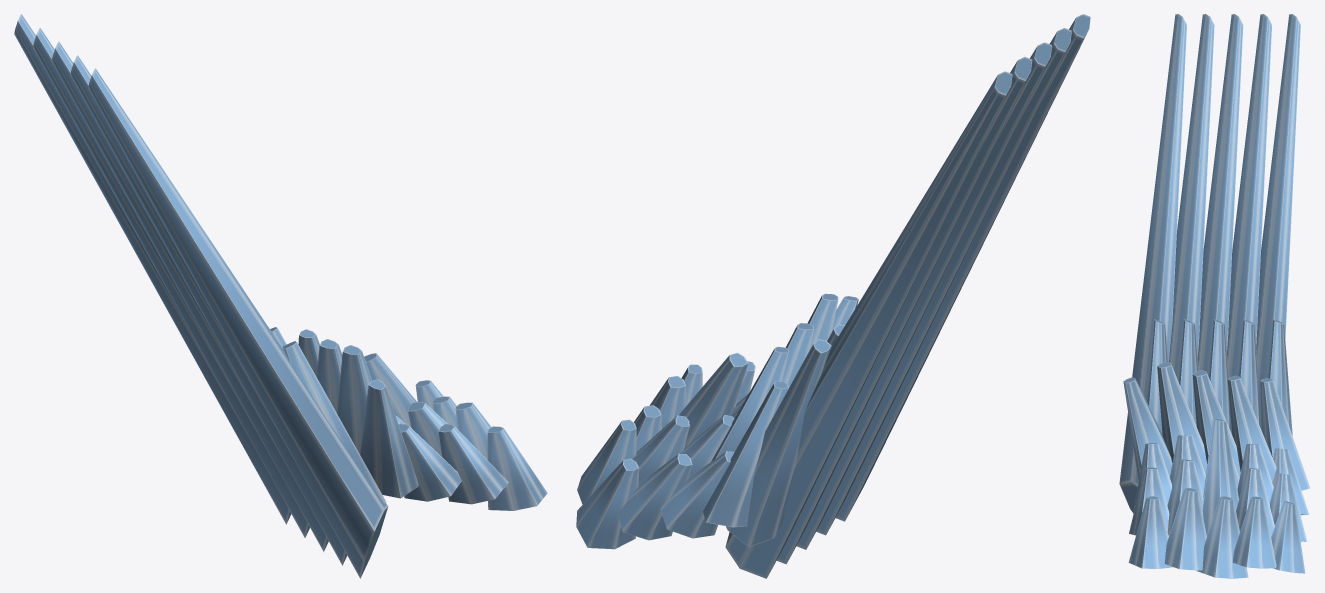
Rendered from wall_spike_07.fbx.
The picture shows the model from 3 angles, left to right: view 1: azimuth 30°, elevation 25°; view 2: azimuth 150°, elevation 25°; view 3: azimuth 270°, elevation 25°; orthographic projection. The views are drawn at different scales.
Visible parts, largest first — view 1: wall_spike_07; view 2: wall_spike_07; view 3: wall_spike_07.
Boxes of the visible parts, x1=… form: wall_spike_07: x1=14, y1=14, x2=547, y2=578; wall_spike_07: x1=576, y1=14, x2=1090, y2=578; wall_spike_07: x1=1119, y1=14, x2=1310, y2=578.
Size of the model in its own units: 2.33 by 2.81 by 1.14.
1 material, 1 textured.
